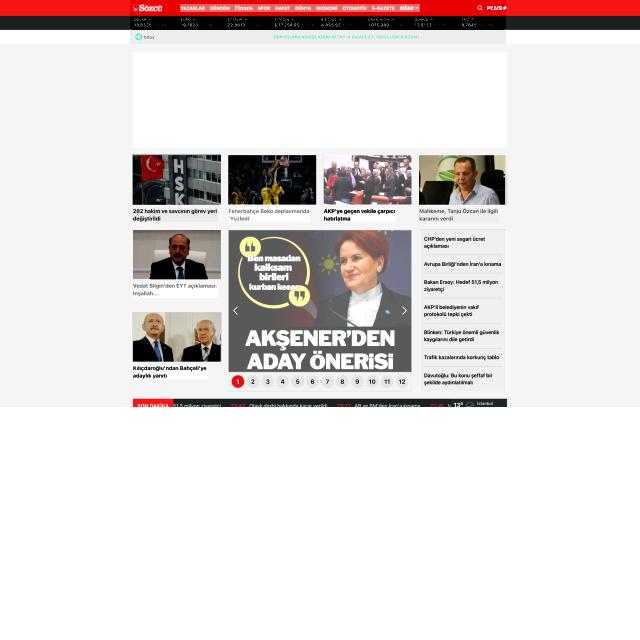Input field: (132, 282, 218, 298), (228, 207, 310, 222), (132, 208, 218, 222), (418, 208, 499, 222), (133, 365, 208, 379), (324, 208, 396, 222)
ProgressBar: (131, 30, 505, 44)
QR code: (420, 229, 506, 391), (132, 16, 504, 30)
RadioButton: (486, 5, 507, 11)
Switch: (228, 230, 412, 372)
alert: (400, 6, 419, 10)
bag: (130, 0, 507, 44)
carousel: (477, 5, 483, 11)
copy: (132, 154, 221, 205), (132, 312, 222, 362), (324, 155, 412, 205), (420, 155, 508, 205), (228, 155, 316, 204), (133, 230, 221, 279)
date picker: (132, 4, 163, 12)
decoration: (180, 4, 420, 12)
dropdown: (228, 372, 412, 392)
